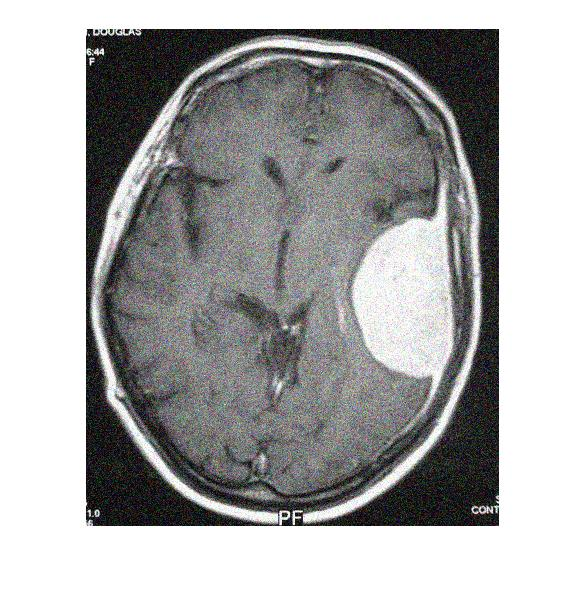Brain_Cancer: (347, 209, 467, 388)
